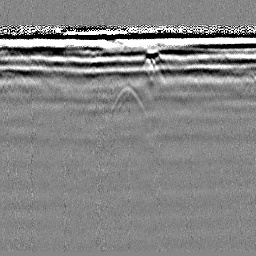cavity: (109, 84, 149, 117)
